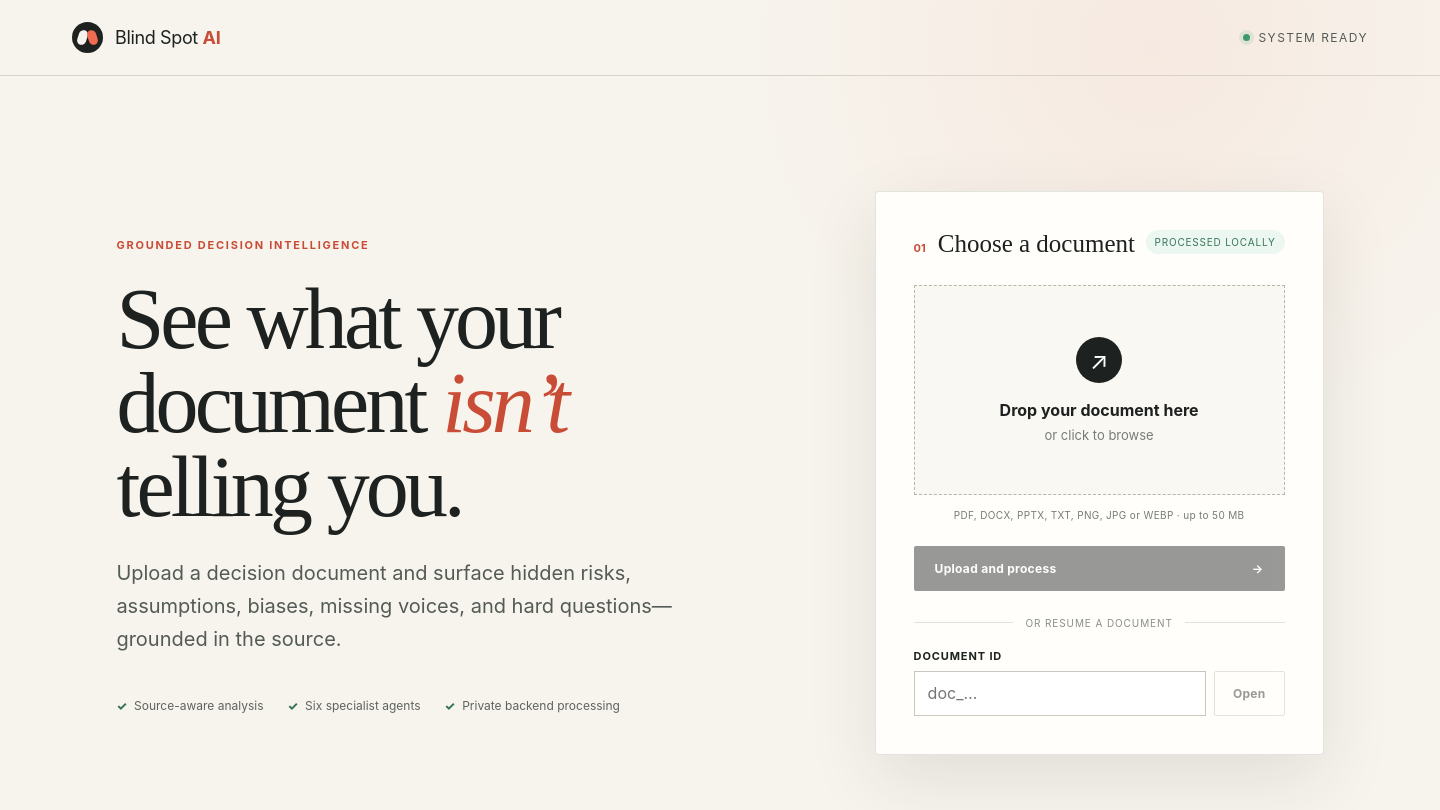
Test: Blind Spot AI workspace › navigates to analysis and renders grounded findings
The width and height of the screenshot is (1440, 810).
Type "doc_test-123" into the field labelled "Document ID" at (1060, 693), box [914,671,1206,716]
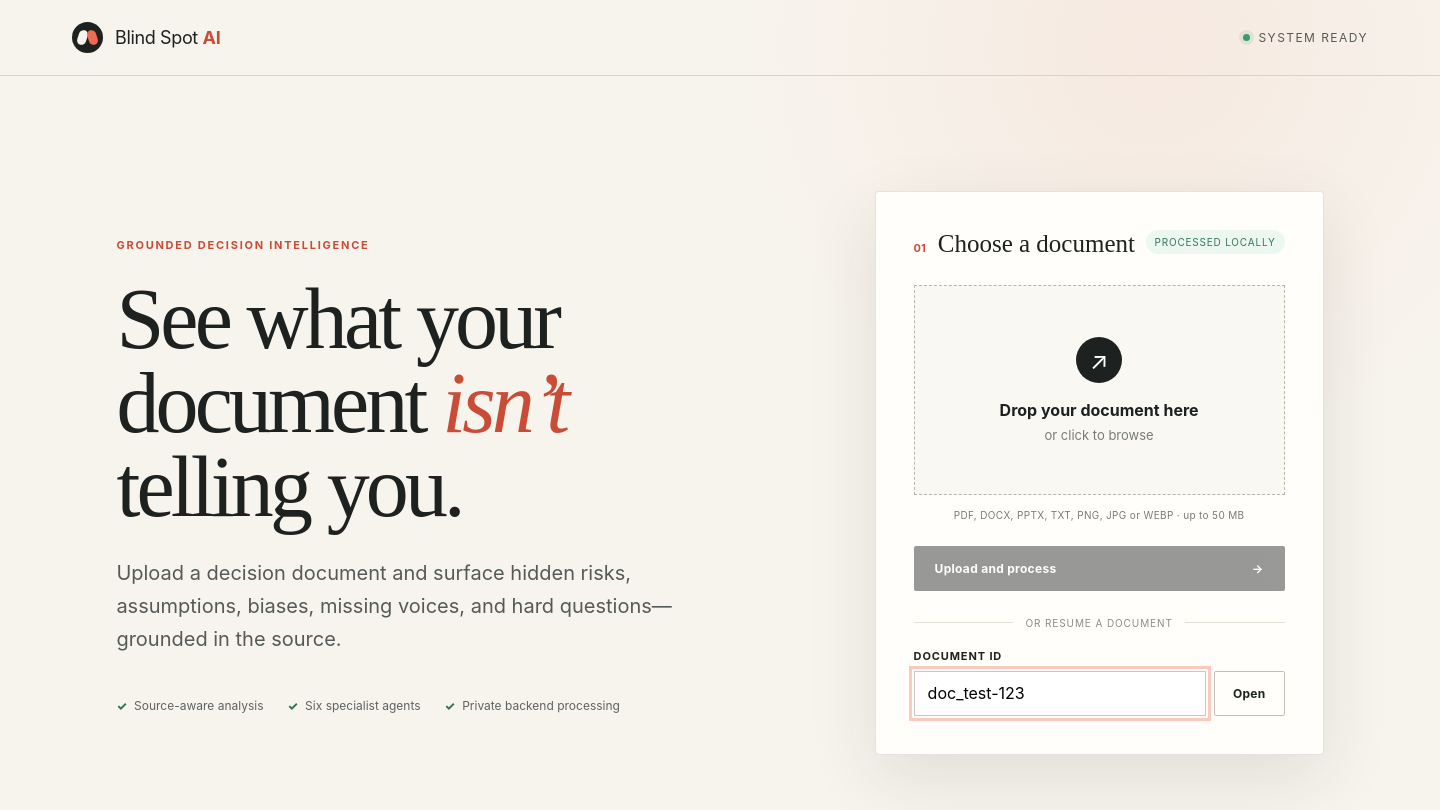
Click the button "Open" at (1249, 693), box [1214,671,1285,716]
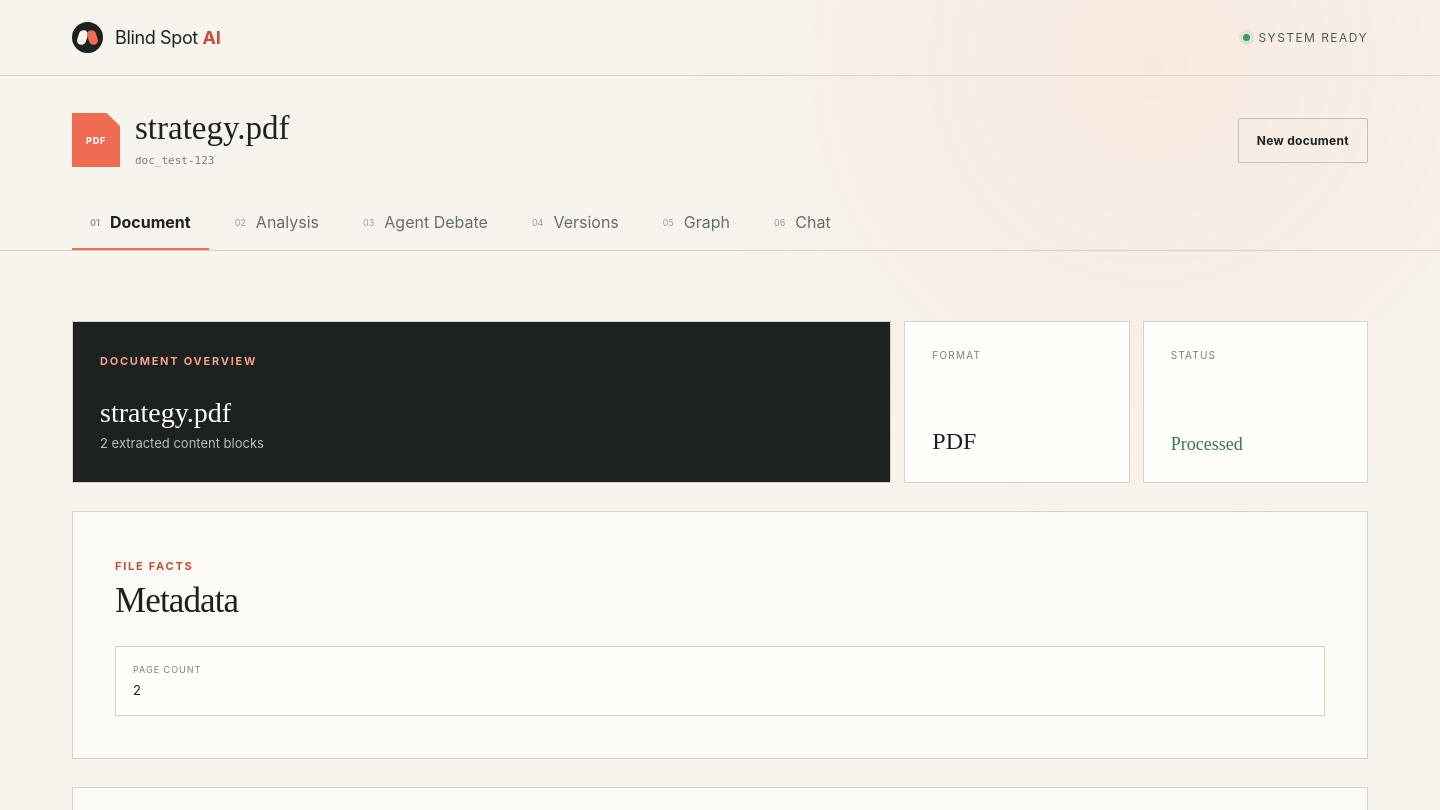
Click the button "02 analysis" at (277, 223), box [217,196,337,250]
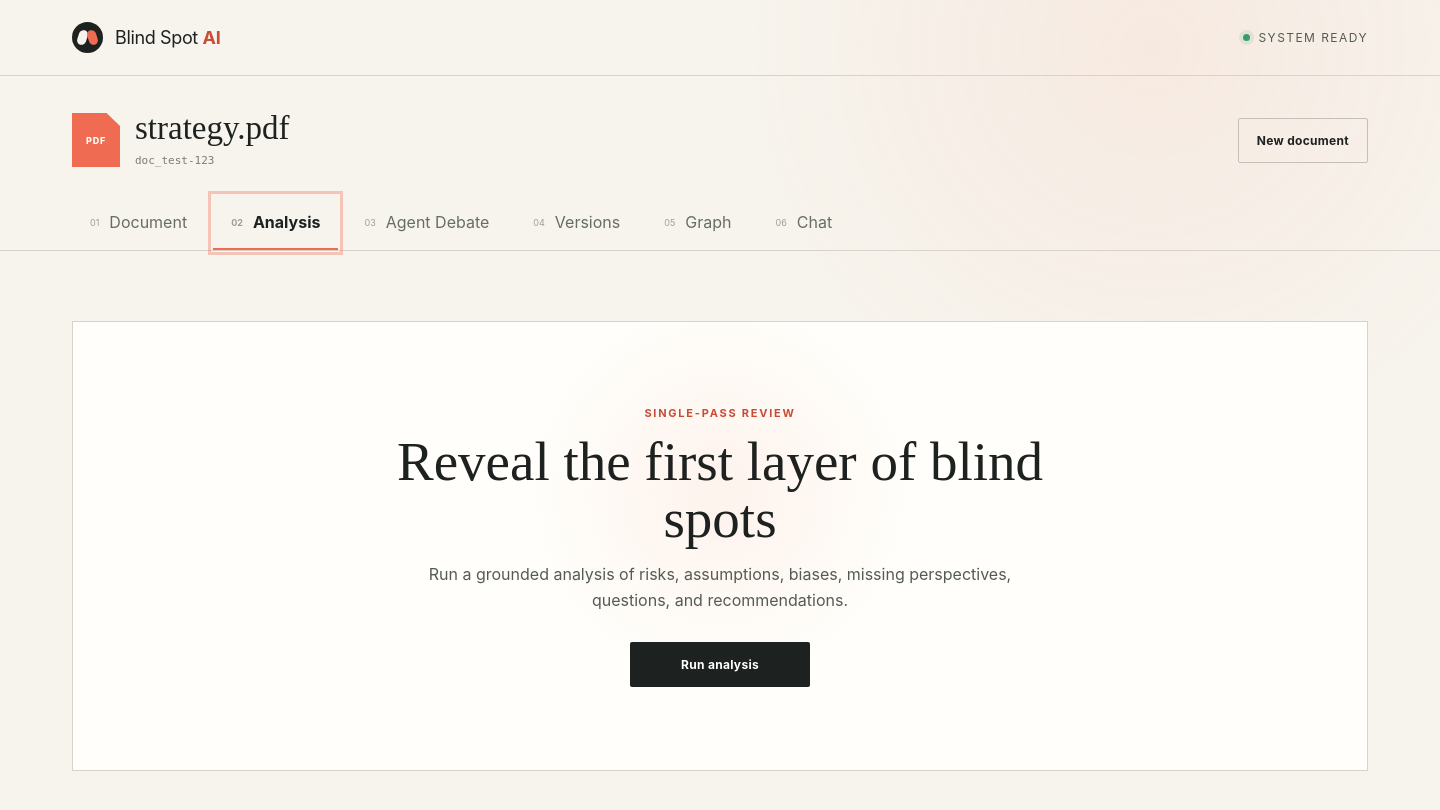
Now the heading "Reveal the first layer of blind spots" is shown, box [395,432,1045,548]
Click the button "Run analysis" at (720, 664), box [630,642,810,687]
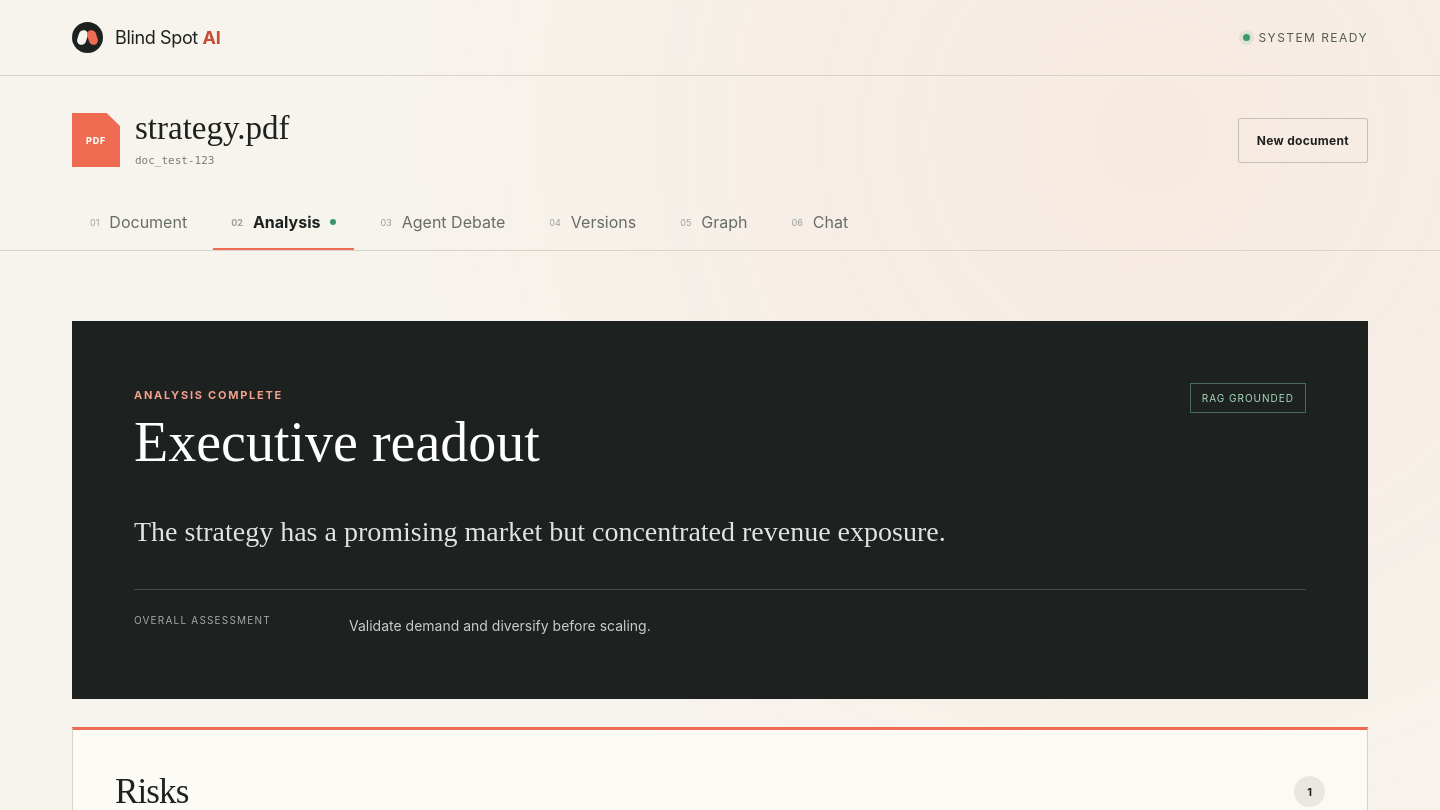
Now the text "The strategy has a promising market but concentrated revenue exposure." is shown, box [134,516,946,547]
Now the text "RAG grounded" is shown, box [1190,383,1306,413]
